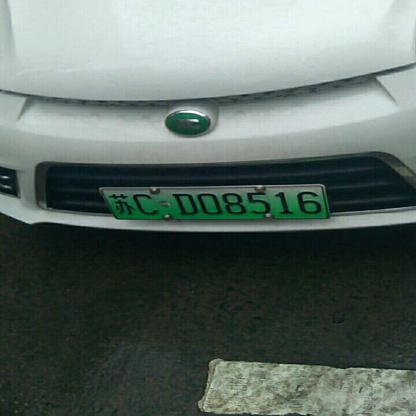lp: (99, 183, 330, 219)
